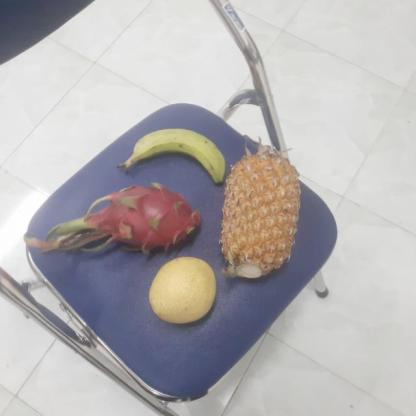banana: (130, 126, 235, 184)
pear: (146, 256, 221, 326)
pineapple: (220, 152, 306, 279)
pitaya: (89, 184, 205, 256)
